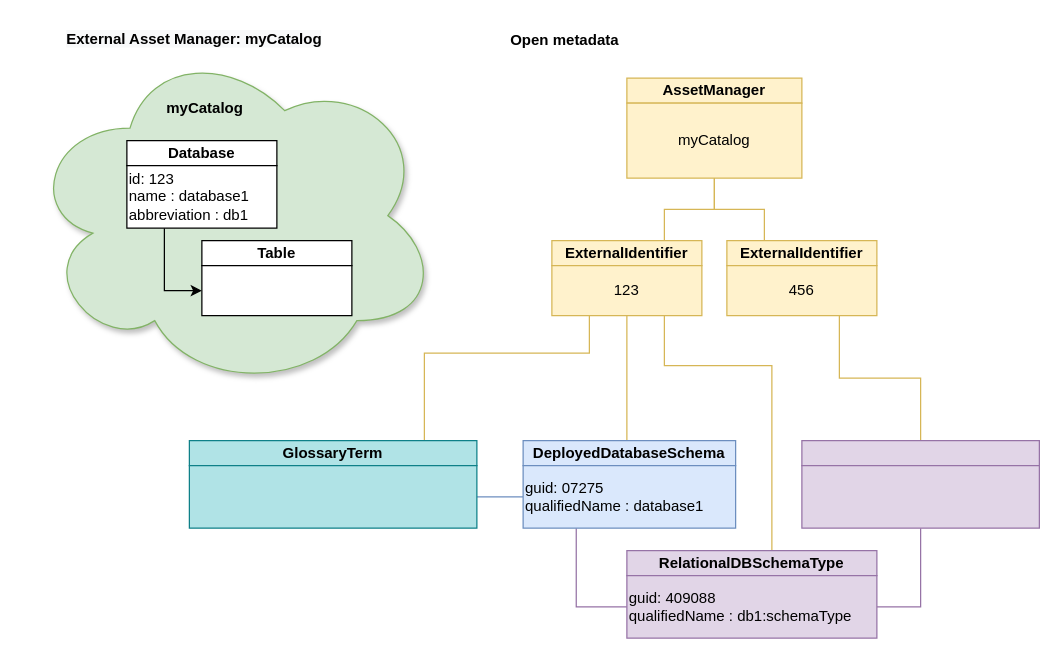
The diagram is 1061 pixels wide and 660 high, and some of its shapes have lost their labels. The centre of each missing label's shape, as x and y in pixels:
"guid: 04920 qualifiedName : database1_supplement abbreviation : db1" belongs at [332,496].
"guid: 203480 qualifiedName : database1:table1" belongs at [920,496].
"id: 456 name : db1:table1" belongs at [276,290].
"RelationalTable" belongs at [920,452].
